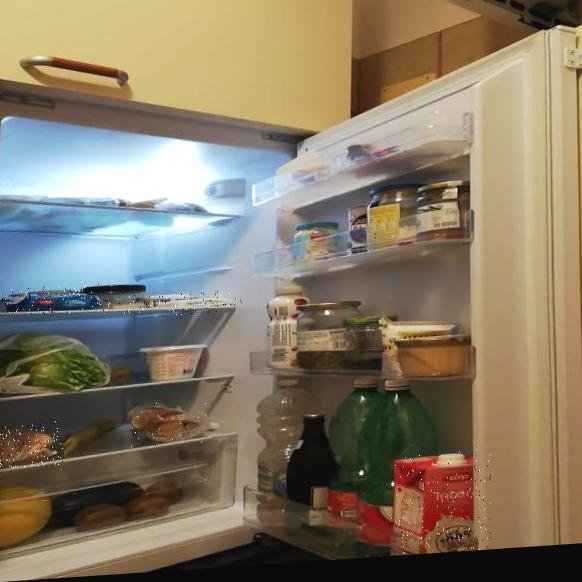apple: (126, 397, 209, 448)
butter: (153, 290, 242, 317)
carrots: (0, 420, 63, 469)
cheese: (0, 283, 100, 318), (99, 294, 151, 315)
milk: (390, 447, 491, 556)
